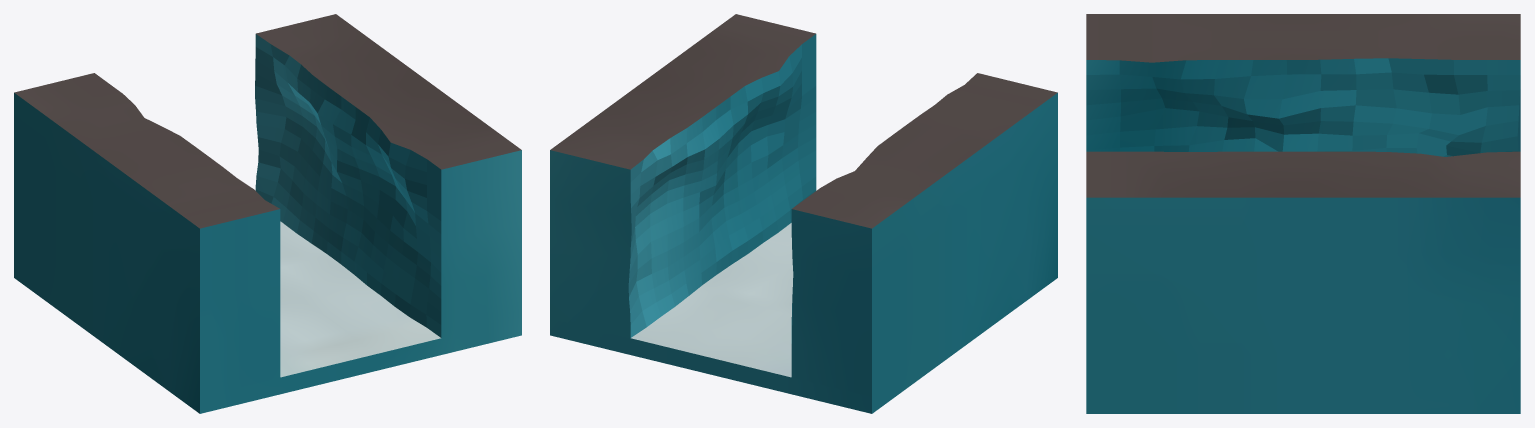
Rendered from Tile_Straight_Ice_v2.fbx.
3 renders of one model, left to right at view 1: azimuth 30°, elevation 25°; view 2: azimuth 150°, elevation 25°; view 3: azimuth 270°, elevation 25°, orthographic. The views are drawn at different scales.
Visible parts, largest first — view 1: TileStraight; view 2: TileStraight; view 3: TileStraight.
Boxes of the visible parts, left/top/right/bottom form: TileStraight: left=14, top=14, right=521, bottom=413; TileStraight: left=550, top=14, right=1057, bottom=413; TileStraight: left=1086, top=14, right=1520, bottom=413.
Bounding box in the file's own units: 2000 × 1100 × 2000.
3 materials, 3 textured.
